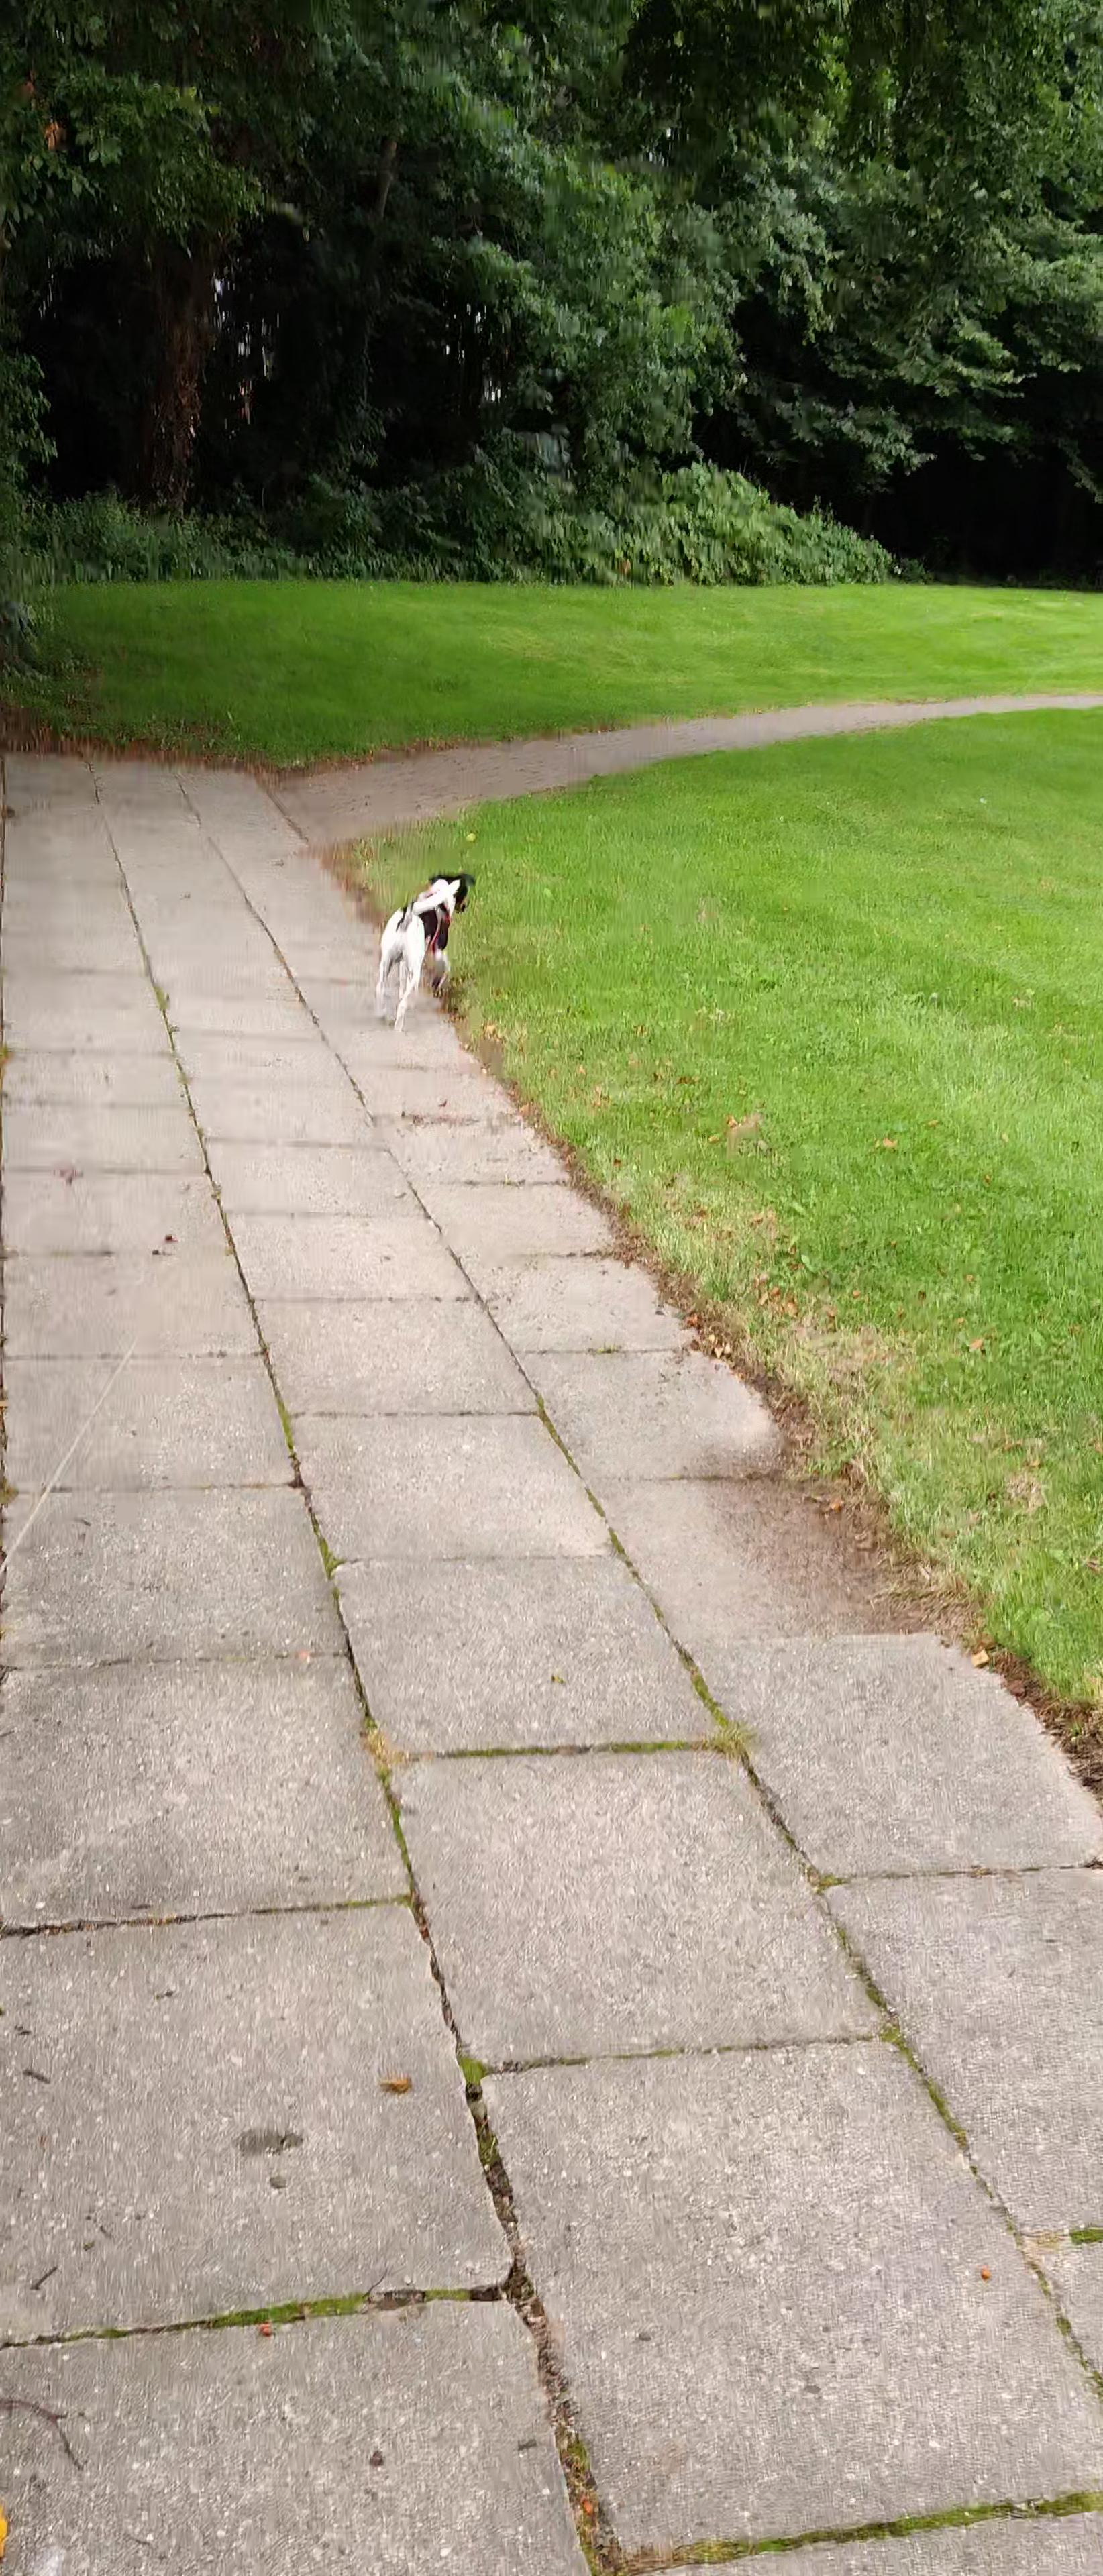Dog: (370, 862, 480, 1033)
